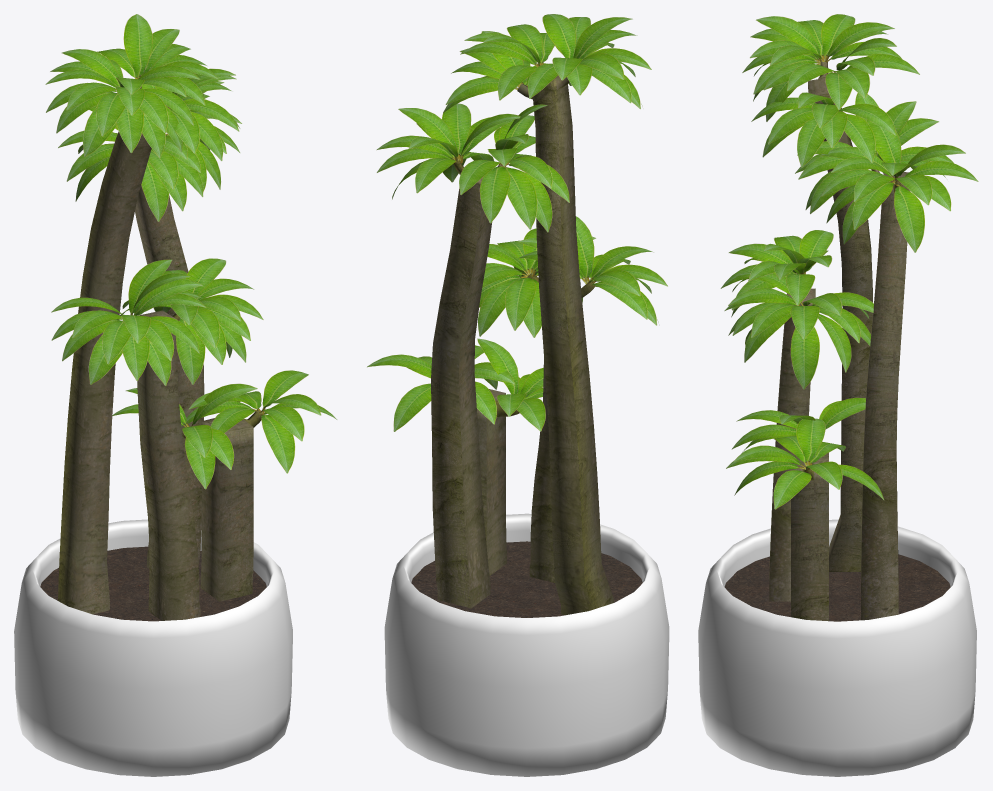
The picture shows the model from 3 angles, left to right: view 1: azimuth 30°, elevation 25°; view 2: azimuth 150°, elevation 25°; view 3: azimuth 270°, elevation 25°; orthographic projection. The views are drawn at different scales.
Visible parts, largest first — view 1: revolvedSurface1, pCube1, pCube2, pCube5, pDisc1, pCube3, pPlane75, pPlane11, pPlane46, pPlane20, pPlane104, pPlane5 (+34 smaller); view 2: revolvedSurface1, pCube1, pCube3, pDisc1, pCube5, pCube2, pPlane98, pPlane95, pPlane33, pPlane61, pPlane10, pPlane14 (+25 smaller); view 3: revolvedSurface1, pCube3, pCube1, pDisc1, pCube5, pCube2, pPlane108, pPlane22, pPlane70, pPlane9, pPlane85, pPlane4 (+41 smaller).
Boxes of the visible parts, <box> form: revolvedSurface1: <box>14,519,292,776</box>; pCube1: <box>58,86,168,614</box>; pCube2: <box>137,310,200,620</box>; pCube5: <box>182,409,262,601</box>; pDisc1: <box>40,546,266,621</box>; pCube3: <box>135,185,204,568</box>; pPlane75: <box>123,14,152,78</box>; pPlane11: <box>259,413,295,473</box>; pPlane46: <box>128,259,172,315</box>; pPlane20: <box>176,318,205,384</box>; pPlane104: <box>141,161,169,221</box>; pPlane5: <box>262,370,308,413</box>; revolvedSurface1: <box>384,513,669,776</box>; pCube1: <box>517,75,613,615</box>; pCube3: <box>431,160,505,608</box>; pDisc1: <box>411,541,642,617</box>; pCube5: <box>477,389,519,575</box>; pCube2: <box>527,273,595,582</box>; pPlane98: <box>502,166,537,229</box>; pPlane95: <box>479,166,510,223</box>; pPlane33: <box>505,277,536,330</box>; pPlane61: <box>542,14,576,58</box>; pPlane10: <box>393,383,431,431</box>; pPlane14: <box>477,338,518,394</box>; revolvedSurface1: <box>698,519,976,776</box>; pCube3: <box>861,169,910,620</box>; pCube1: <box>808,62,872,571</box>; pDisc1: <box>724,554,950,621</box>; pCube5: <box>791,452,828,621</box>; pCube2: <box>769,273,815,601</box>; pPlane108: <box>894,184,924,252</box>; pPlane22: <box>790,327,819,389</box>; pPlane70: <box>756,16,823,61</box>; pPlane9: <box>796,418,825,465</box>; pPlane85: <box>844,114,875,162</box>; pPlane4: <box>773,470,811,509</box>.
Size of the model in its own units: 8.43 by 19.79 by 7.4.
Materials: 4 (3 with a texture image).
